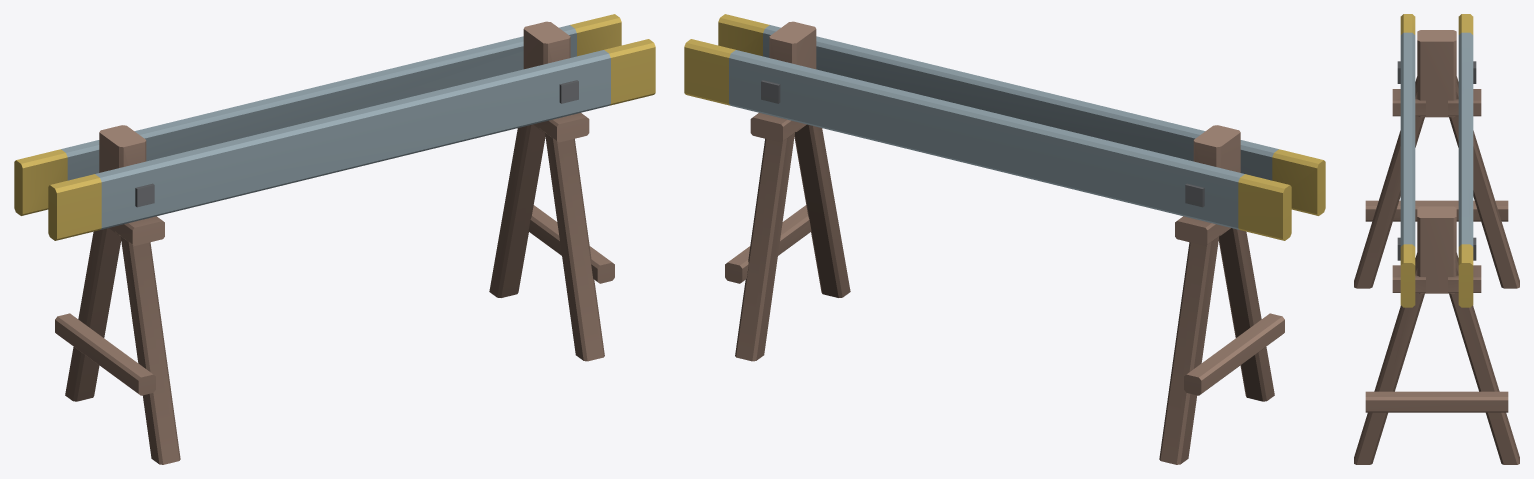
Rendered from barricade.glb.
3 views of the same model, side by side, from view 1: azimuth 30°, elevation 25°; view 2: azimuth 150°, elevation 25°; view 3: azimuth 270°, elevation 25° (orthographic). The views are drawn at different scales.
Visible parts, largest first — view 1: barricade.001; view 2: barricade.001; view 3: barricade.001.
Boxes of the visible parts, box(x1,y1,x2,y2) form: barricade.001: box(14, 14, 655, 464); barricade.001: box(684, 14, 1325, 464); barricade.001: box(1354, 14, 1519, 464).
Bounding box in the file's own units: 2.4 × 1.12 × 0.675.
